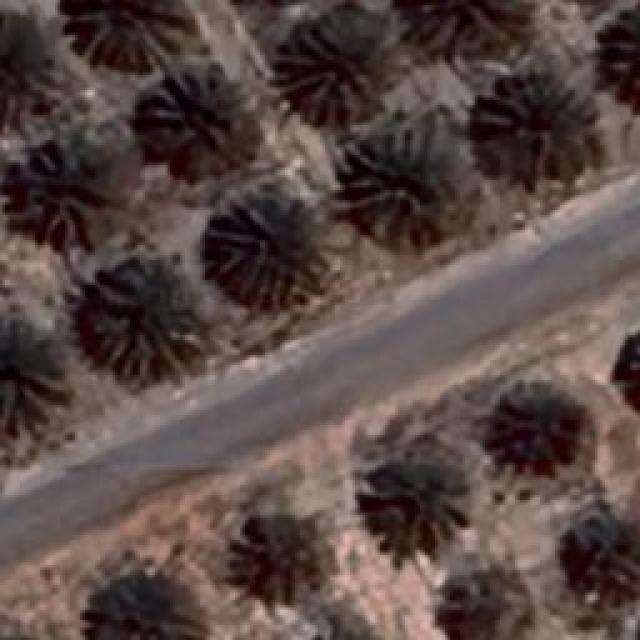PalmTree: (32, 68, 144, 605), (90, 255, 198, 383), (205, 202, 328, 308), (340, 127, 450, 240), (275, 20, 380, 120), (488, 385, 592, 485), (484, 85, 586, 183), (360, 464, 470, 554), (238, 510, 330, 602), (0, 312, 65, 438), (70, 0, 185, 70), (148, 60, 242, 145), (401, 0, 534, 60), (20, 140, 98, 242), (437, 570, 535, 640), (557, 521, 640, 601), (605, 23, 640, 116), (615, 322, 640, 416), (294, 618, 392, 640), (296, 624, 396, 640), (623, 322, 640, 416), (628, 323, 640, 416)
